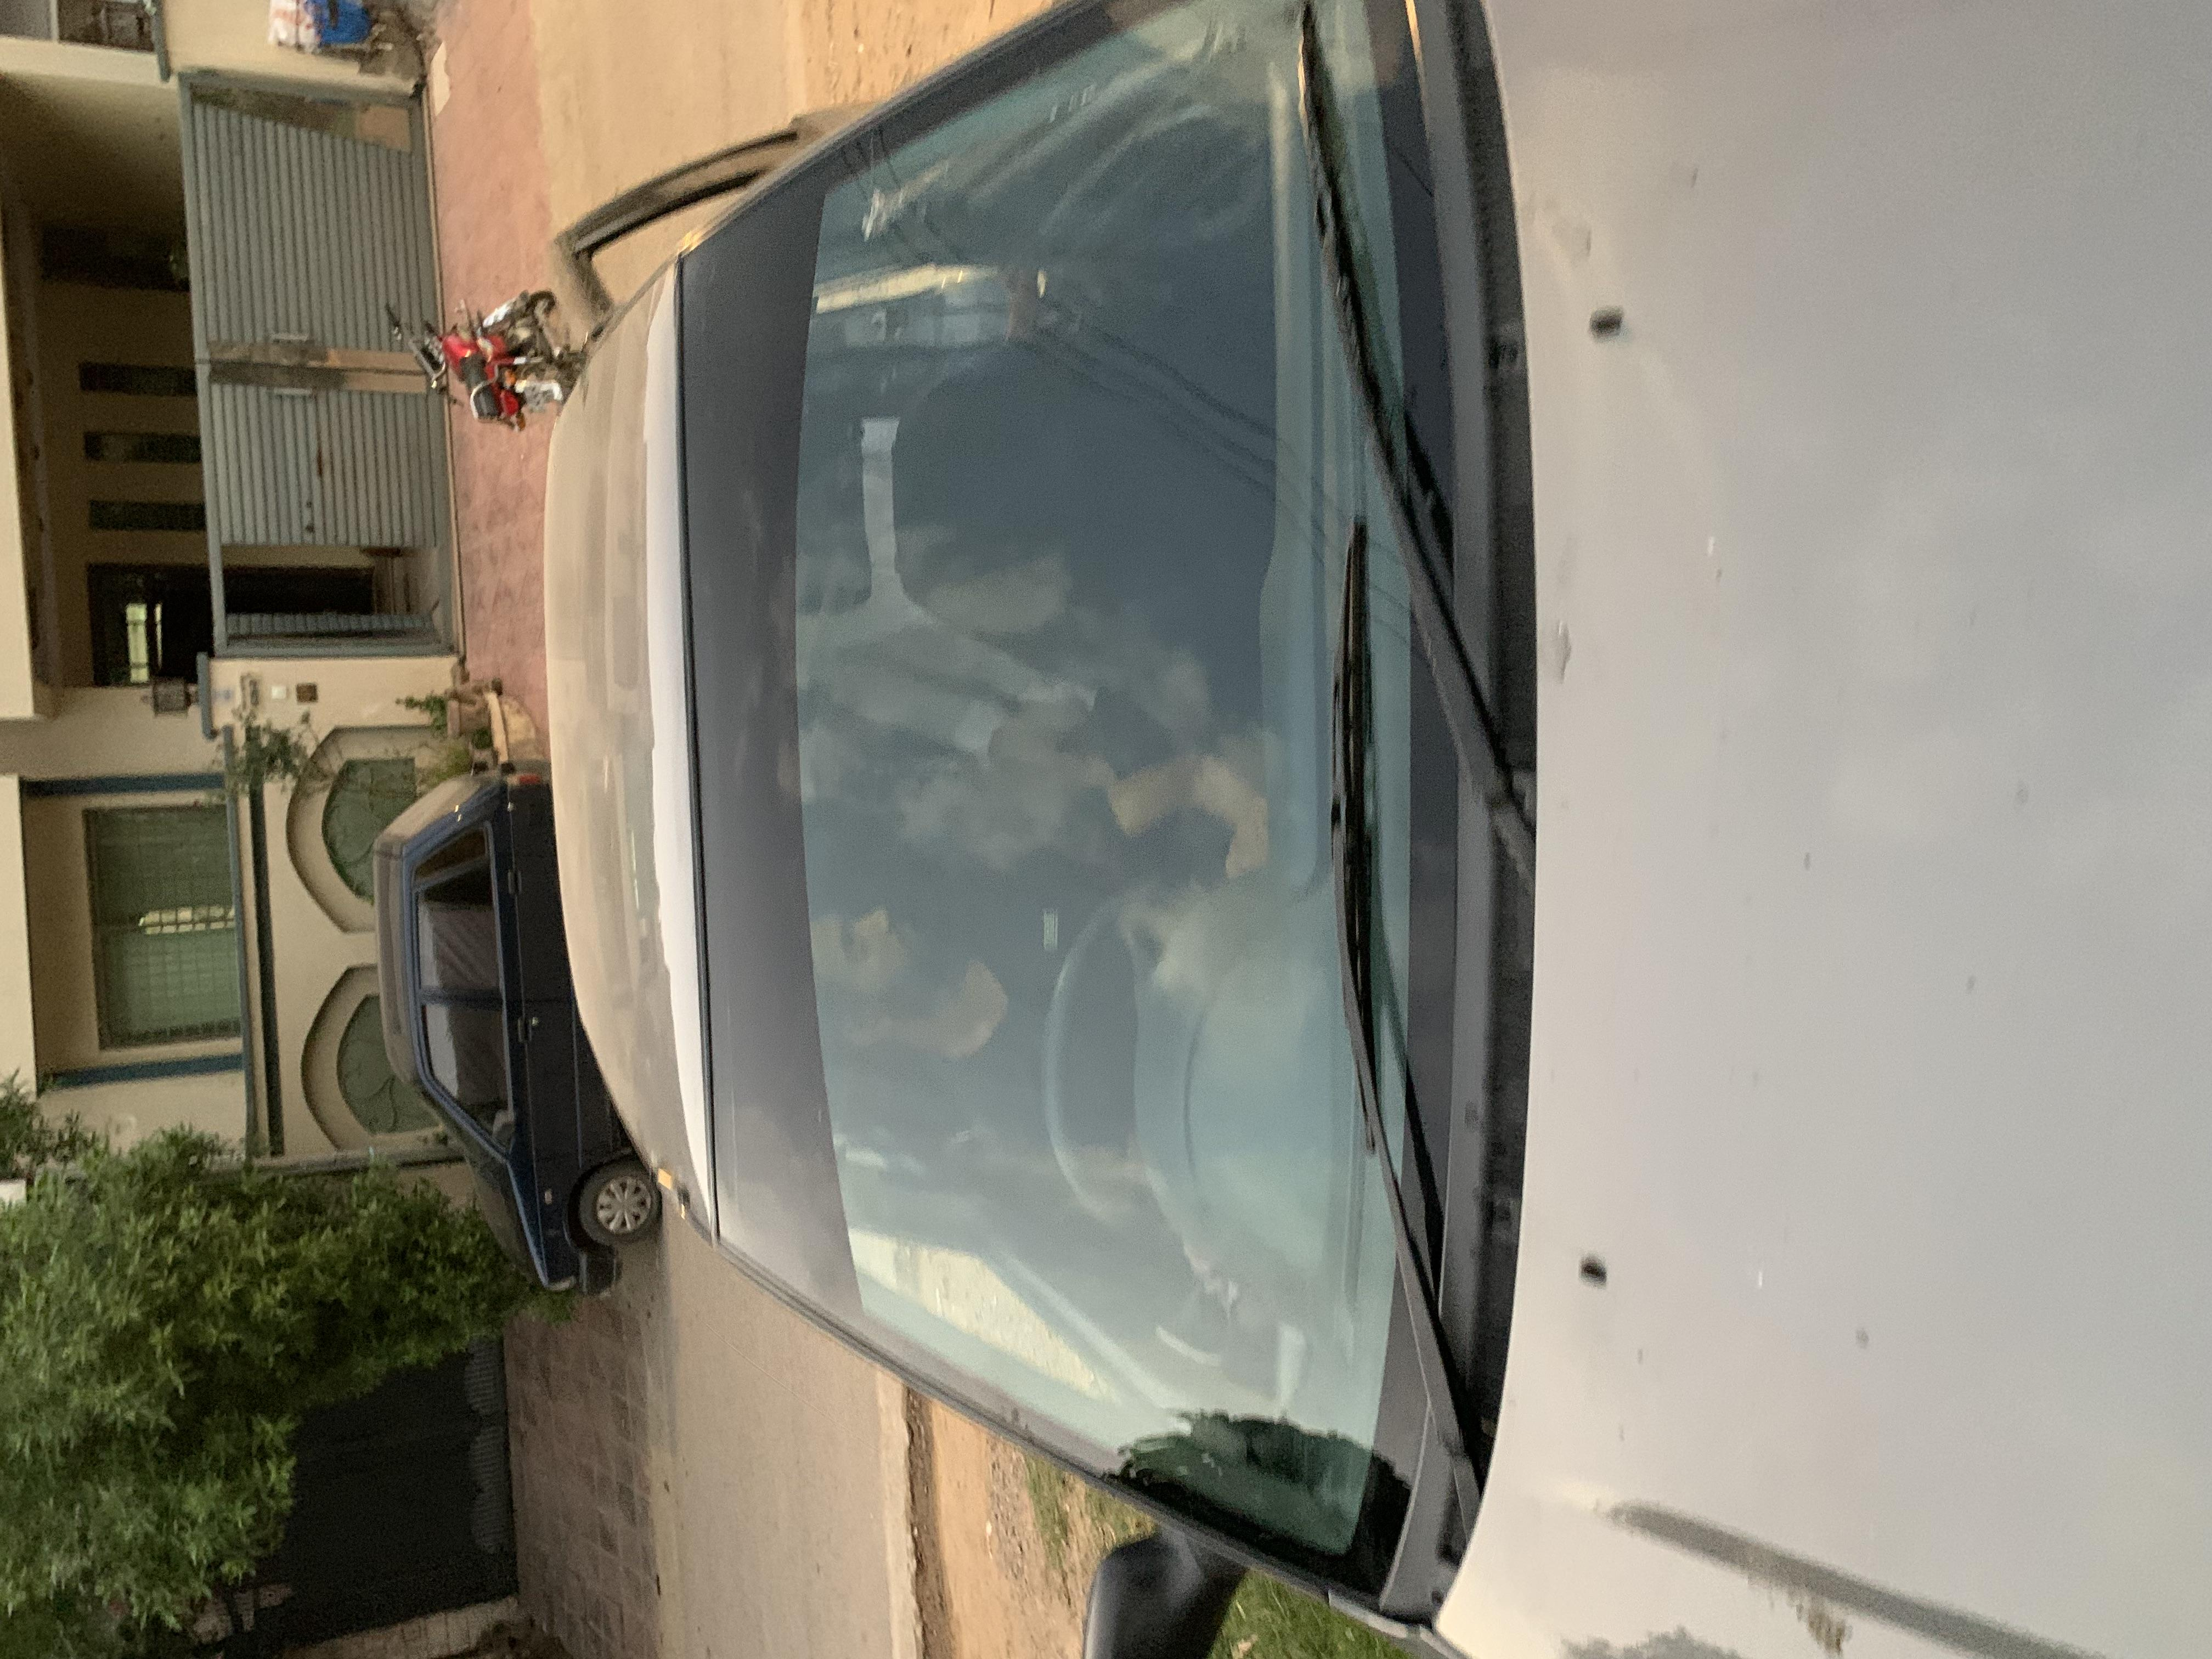windshield: (2, 505, 2195, 1136)
